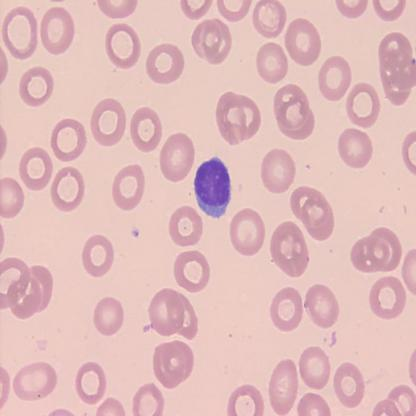Lymphocyte: (193, 156, 232, 218)
